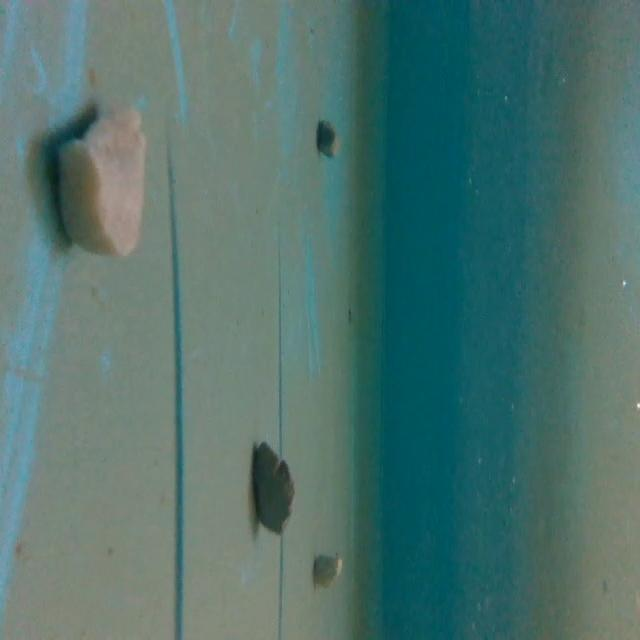rock: (41, 98, 154, 266), (250, 437, 297, 542), (312, 116, 344, 162), (311, 551, 346, 593)
